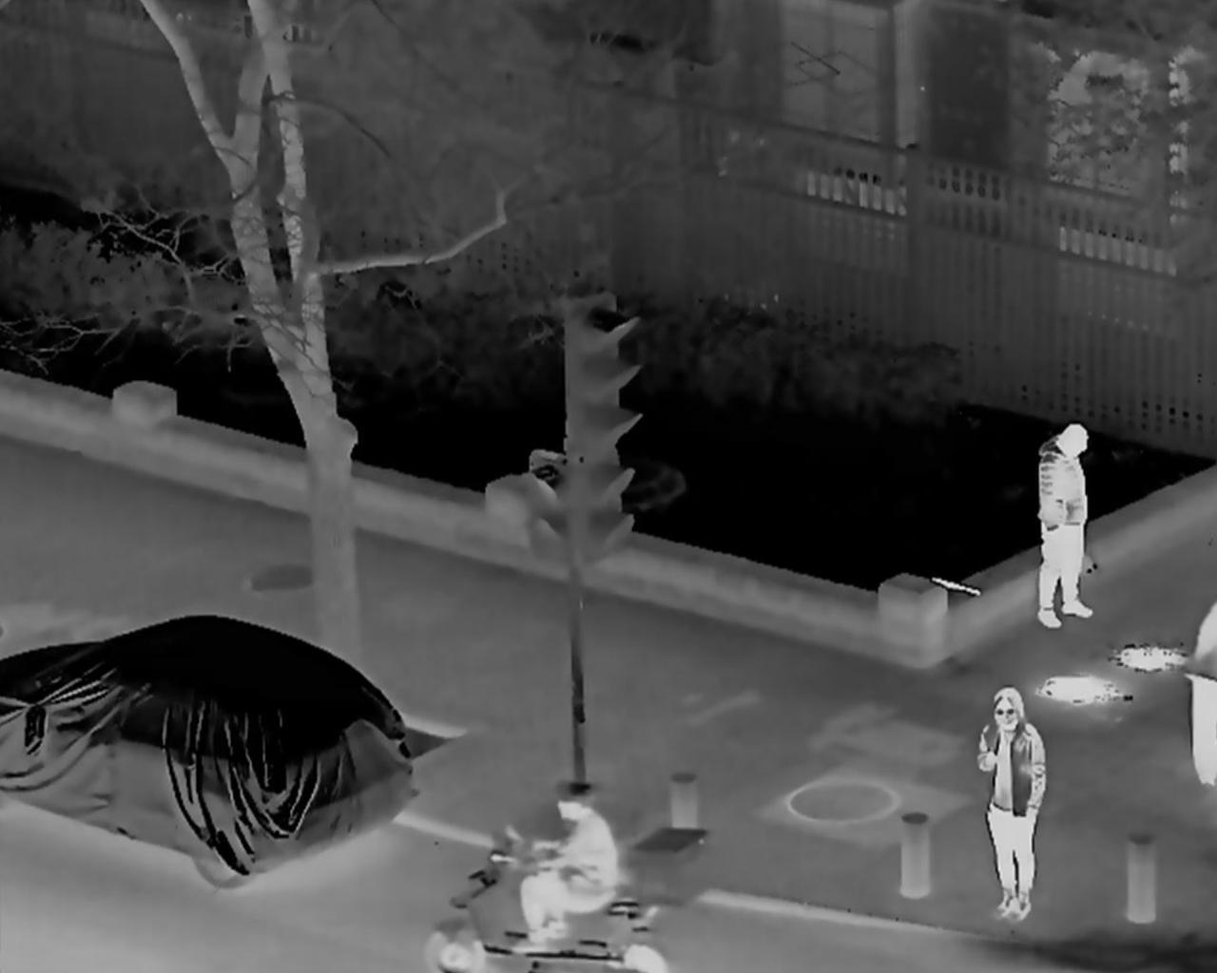person: (509, 786, 622, 948), (979, 689, 1043, 922), (1036, 423, 1094, 629)
